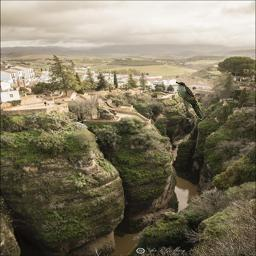Cuckoo: (175, 81, 204, 120)
